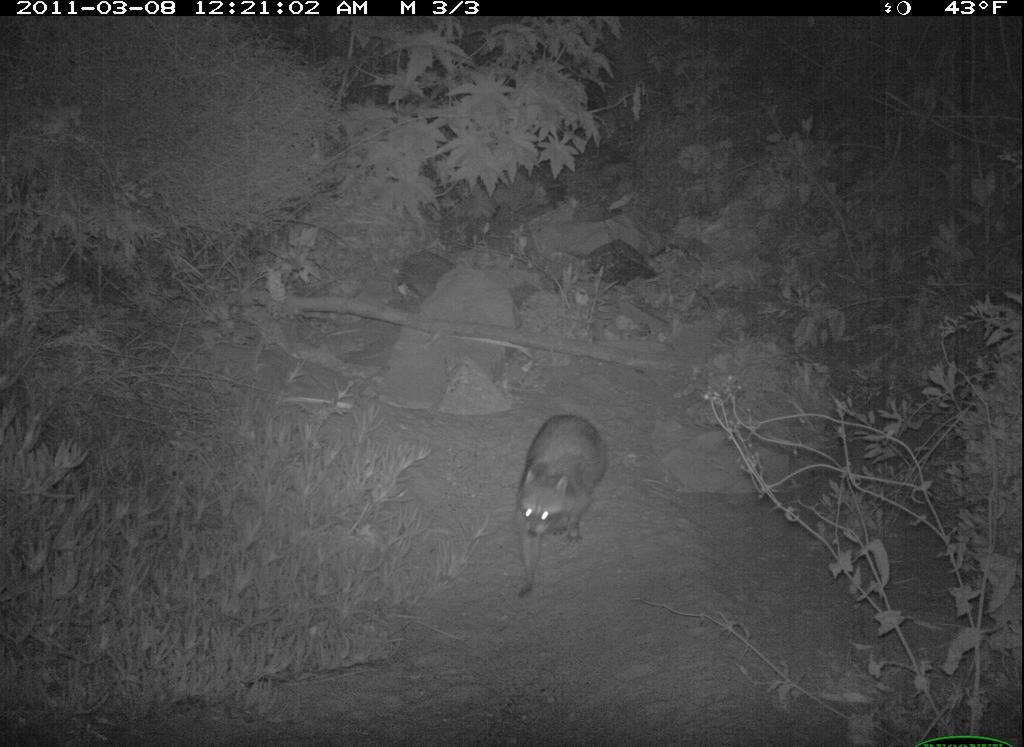raccoon: (513, 406, 616, 606)
